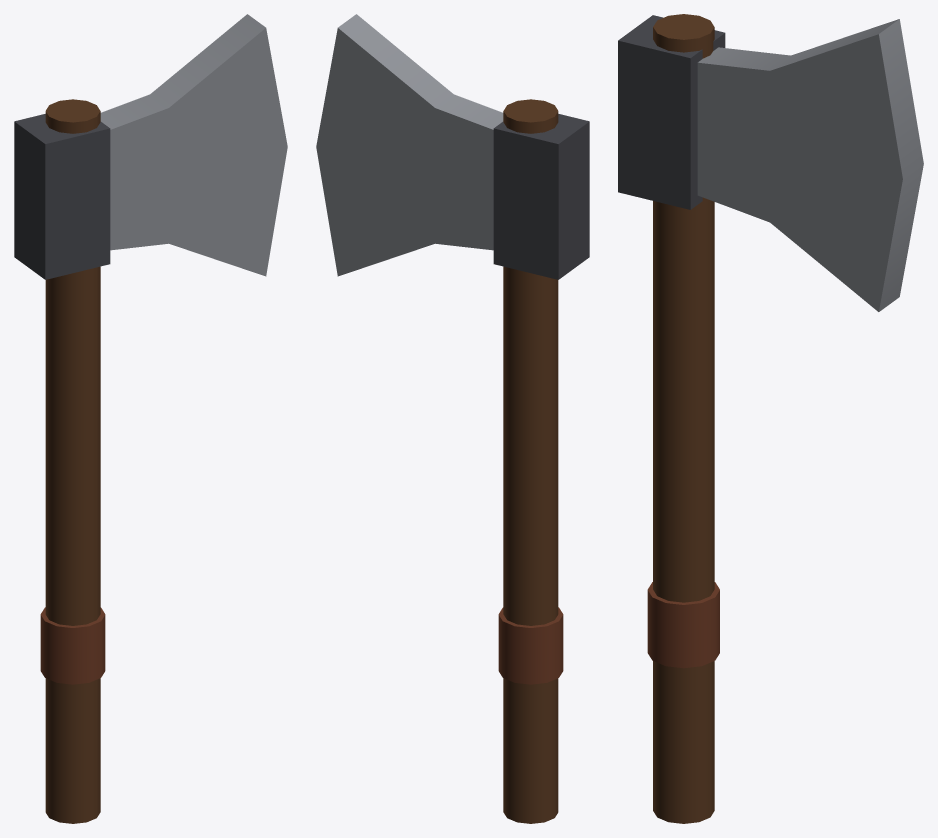
Rendered from arma_machado_t1_ferragem.glb.
The picture shows the model from 3 angles, left to right: view 1: azimuth 30°, elevation 25°; view 2: azimuth 150°, elevation 25°; view 3: azimuth 330°, elevation 25°; orthographic projection. The views are drawn at different scales.
Visible parts, largest first — view 1: arma_machado_t1_ferragem; view 2: arma_machado_t1_ferragem; view 3: arma_machado_t1_ferragem.
Part boxes in pixels (box(x1,y1,x2,y2)): arma_machado_t1_ferragem: box(14, 14, 287, 823); arma_machado_t1_ferragem: box(316, 14, 589, 823); arma_machado_t1_ferragem: box(618, 14, 923, 823).
Bounding box in the file's own units: 0.23 × 0.66 × 0.052.
